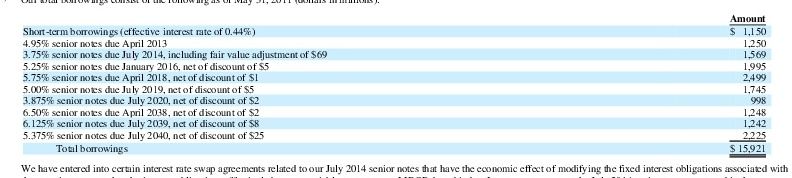table: (0, 0, 792, 178)
